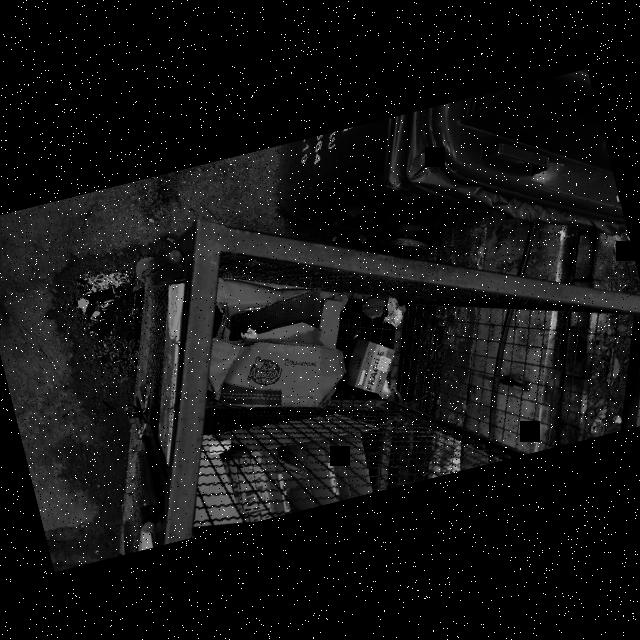cardboard_box: (179, 260, 360, 422), (192, 401, 380, 532), (334, 318, 418, 422)
